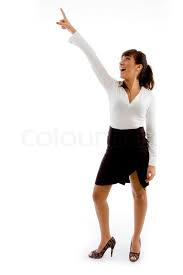hand: (50, 3, 79, 33)
